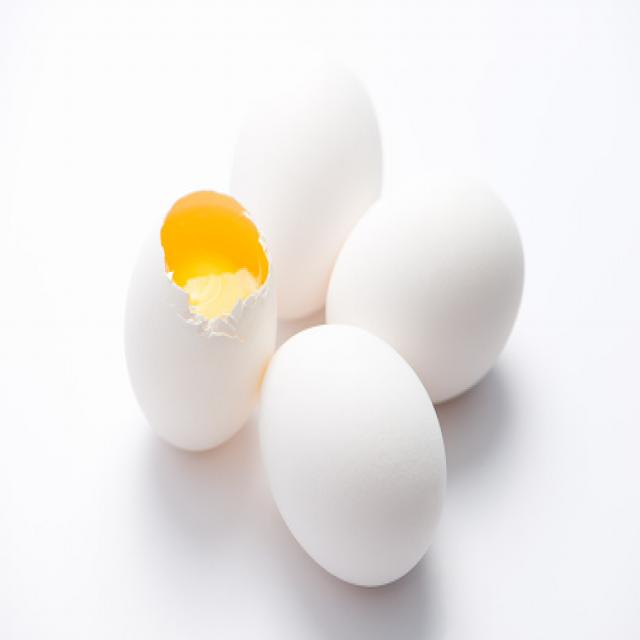egg: (260, 325, 447, 587), (326, 172, 525, 402), (125, 191, 277, 450)
